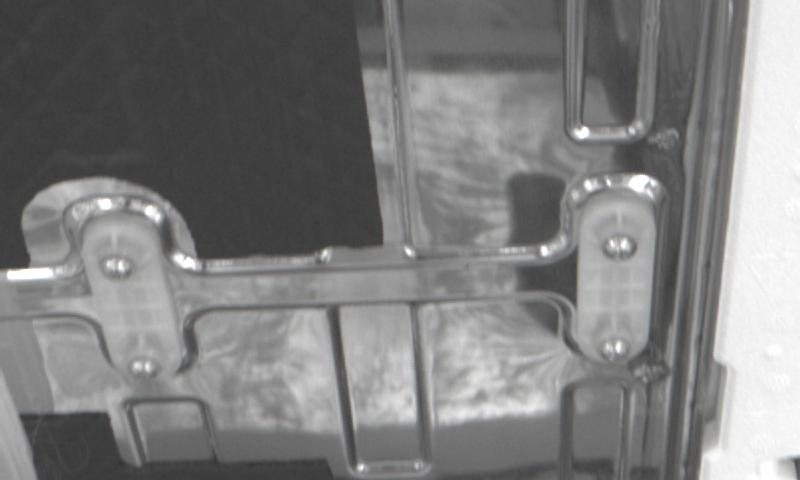vida-ok: (597, 232, 640, 277), (98, 245, 138, 290), (123, 351, 166, 391), (598, 331, 638, 369)
